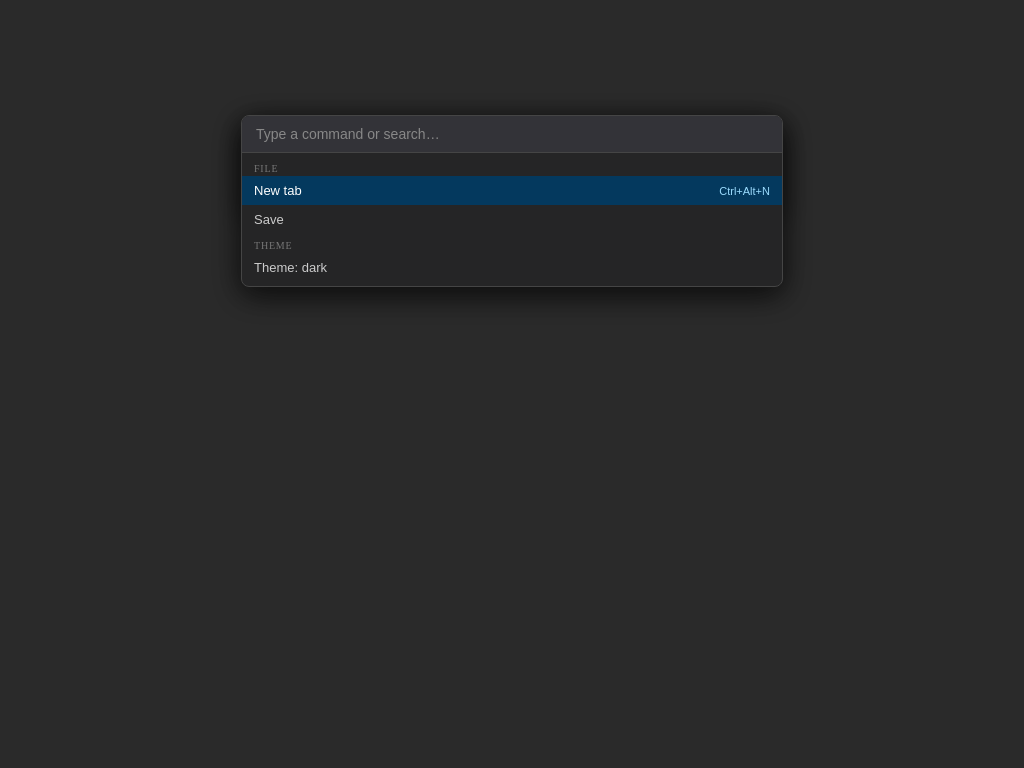
it: CommandPalette › shows an empty state when nothing matches
Type "zzz" into the field with placeholder "Type a command or search…". click: [512, 135]
box: [242, 116, 782, 153]
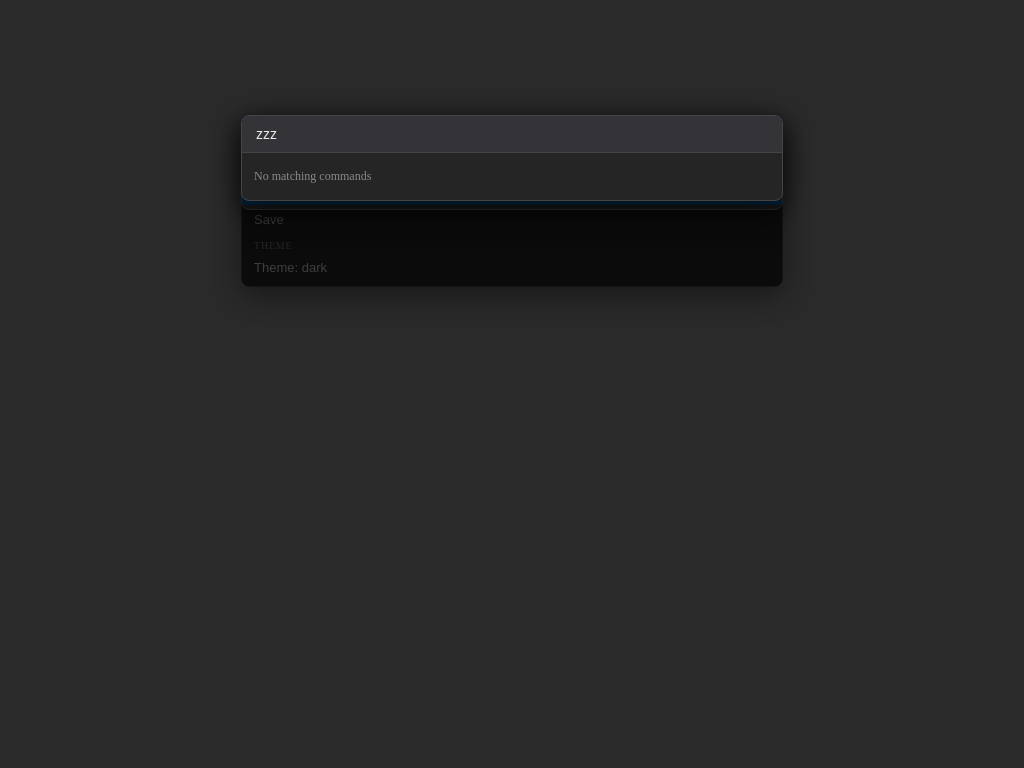
Now the text "No matching commands" is shown, box [254, 169, 371, 183]
